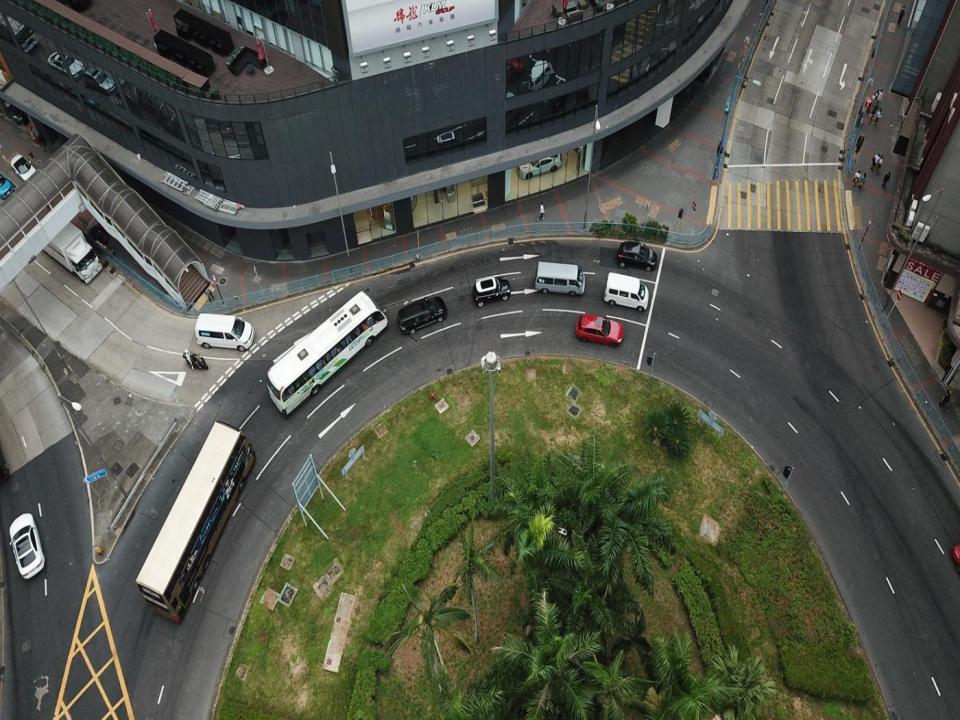bus: (132, 418, 257, 627), (265, 290, 390, 421)
car: (575, 312, 624, 349), (614, 239, 660, 270), (472, 275, 512, 309), (10, 152, 38, 185), (0, 169, 14, 200)
truck: (28, 206, 103, 284)
van: (6, 513, 46, 581), (194, 312, 254, 354), (395, 294, 448, 336), (604, 272, 656, 312), (534, 259, 586, 297)
